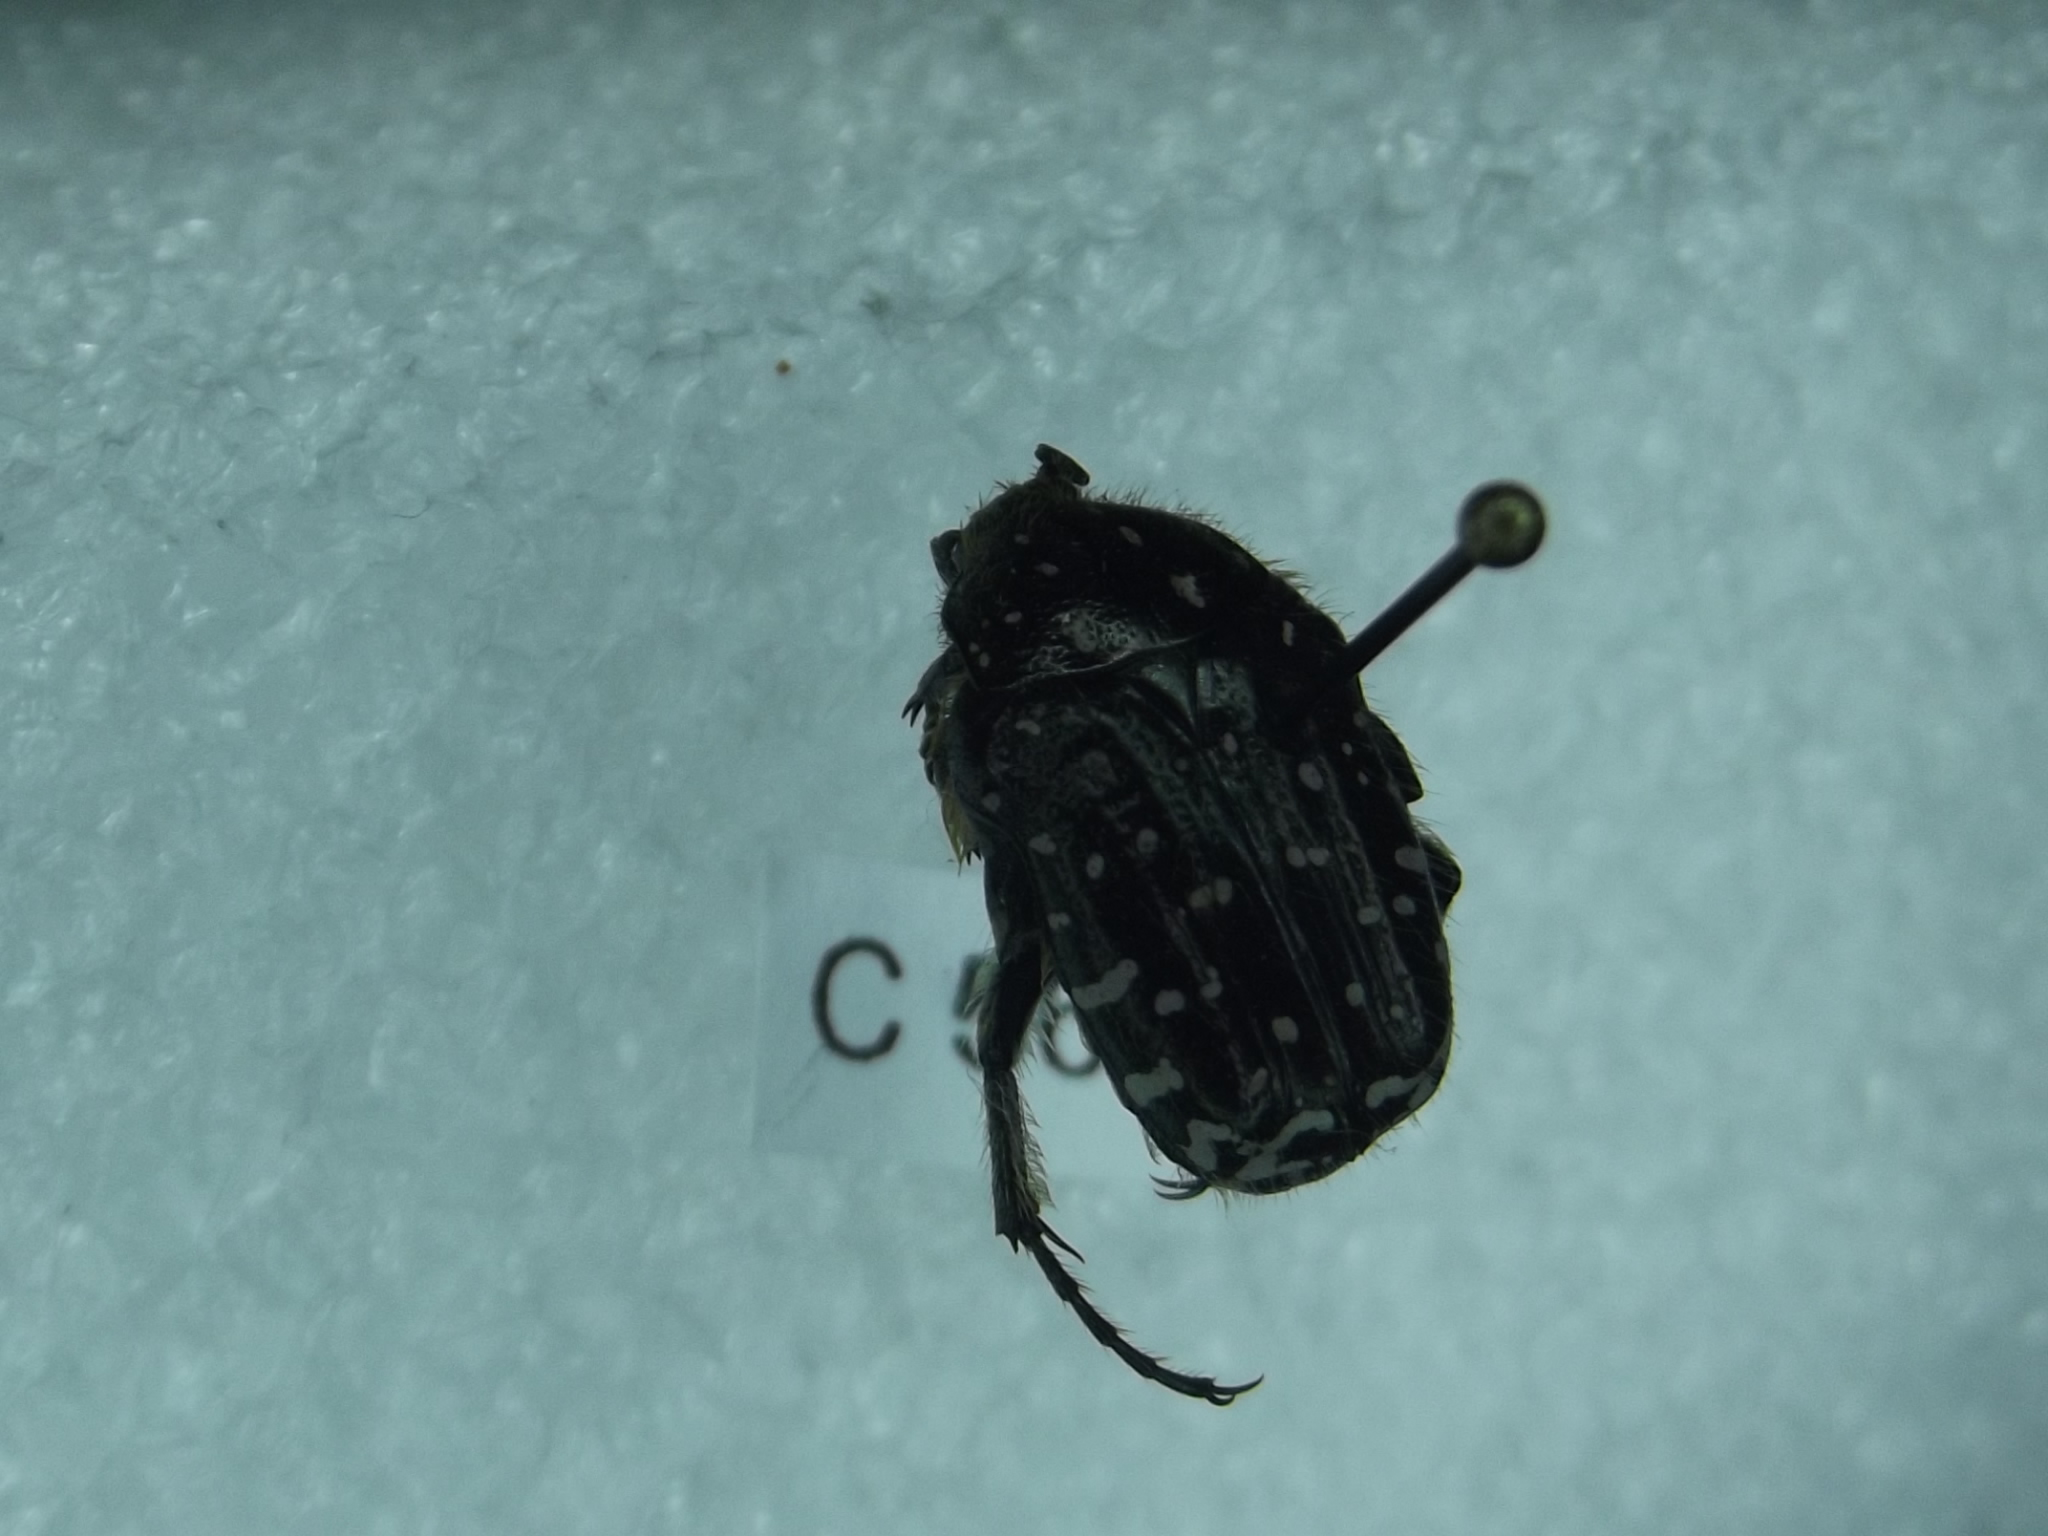Oxythyrea_funesta: (879, 423, 1480, 1405)
